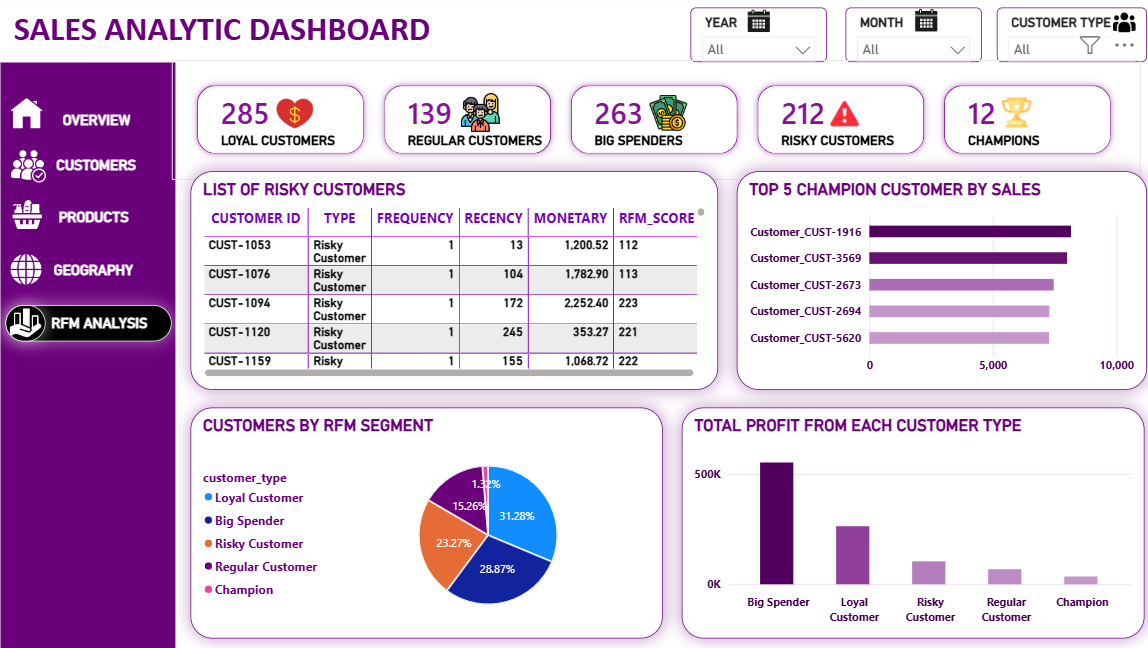

What the dashboard file says about the page in this screenshot:
{"tool":"powerbi","page":{"name":"RFM ANALYSIS","canvas":[1280,720],"ordinal":4},"visuals":[{"type":"textbox","box":[23.3,9.6,516,60.4],"z":0},{"type":"slicer","fields":{"Values":["amazon_db rfm_customers_segmentation.customer_type"]},"box":[1107.4,13.7,164.7,60.4],"z":1000},{"type":"slicer","fields":{"Values":["amazon_db merged_table.order_date.Variation.Date Hierarchy.Year"]},"box":[771.2,13.7,149.6,60.4],"z":2000},{"type":"slicer","fields":{"Values":["amazon_db merged_table.order_date.Variation.Date Hierarchy.Month"]},"box":[941.3,13.7,149.6,60.4],"z":3000},{"type":"image","box":[832.9,13.7,26.1,30.2],"z":4000},{"type":"image","box":[1016.8,8.2,26.1,39.8],"z":5000},{"type":"shape","box":[13.7,74.1,192.1,646.3],"z":6000},{"type":"actionButton","box":[60.4,116.6,100.2,39.8],"z":7000},{"type":"actionButton","box":[31.6,166,174.3,39.8],"z":8000},{"type":"actionButton","box":[65.9,223.7,100.2,39.8],"z":9000},{"type":"actionButton","box":[65.9,281.3,100.2,39.8],"z":10000},{"type":"image","box":[16.5,167.4,56.3,38.4],"z":11000},{"type":"image","box":[23.3,277.2,37,48],"z":12000},{"type":"image","box":[15.1,223.7,56.3,35.7],"z":13000},{"type":"image","box":[22,112.5,41.2,35.7],"z":14000},{"type":"actionButton","box":[19.2,340.3,182.5,39.8],"z":15000},{"type":"image","box":[19.2,340.3,43.9,39.8],"z":16000},{"type":"cardVisual","fields":{"Data":["amazon_db rfm_customers_segmentation.loyal_customers","amazon_db rfm_customers_segmentation.big spender","amazon_db rfm_customers_segmentation.big spendor","amazon_db rfm_customers_segmentation.risky customer","amazon_db rfm_customers_segmentation.champion"]},"box":[201.7,71.4,1063.5,131.7],"z":17000},{"type":"pieChart","title":"CUSTOMERS BY RFM SEGMENT","fields":{"Y":["Count(amazon_db rfm_customers_segmentation.customer_id)"],"Category":["amazon_db rfm_customers_segmentation.customer_type"]},"box":[222.3,452.8,518.7,253.9],"z":18000},{"type":"barChart","title":"TOP 5 CHAMPION CUSTOMER BY SALES","fields":{"Y":["Sum(amazon_db merged_table.sales)"],"Category":["amazon_db merged_table.name","amazon_db rfm_customers_segmentation.customer_type"]},"box":[822,193.5,450.1,240.1],"z":19000},{"type":"columnChart","title":"TOTAL PROFIT FROM EACH CUSTOMER TYPE","fields":{"Category":["amazon_db rfm_customers_segmentation.customer_type"],"Y":["Sum(amazon_db merged_table.profit)"]},"box":[761.6,452.8,507.7,253.9],"z":20000},{"type":"tableEx","title":"LIST OF RISKY CUSTOMERS","fields":{"Values":["amazon_db rfm_customers_segmentation.customer_id","amazon_db rfm_customers_segmentation.customer_type","amazon_db rfm_customers_segmentation.frequency","amazon_db rfm_customers_segmentation.recency","amazon_db rfm_customers_segmentation.monetary","amazon_db rfm_customers_segmentation.rfm_score"]},"box":[222.3,193.5,579.1,240.1],"z":21000},{"type":"image","box":[1099.1,112.5,60.4,32.9],"z":22000},{"type":"image","box":[911.2,113.9,59,32.9],"z":23000},{"type":"image","box":[703.9,108.4,85.1,42.5],"z":24000},{"type":"image","box":[510.5,107,60.4,43.9],"z":25000},{"type":"image","box":[293.7,109.8,86.4,41.2],"z":26000},{"type":"image","box":[1235,13.7,24.7,32.9],"z":27000}]}

Visuals, with their boxes on the page's 1280x720 design canvas (x1, y1, x2, y2). These are canvas units, not pixel positions in the 1148x648 screenshot, which may show the page scaled, cropped or inside an application window:
textbox: [23, 10, 539, 70]
slicer - amazon_db rfm_customers_segmentation.customer_type: [1107, 14, 1272, 74]
slicer - amazon_db merged_table.order_date.Variation.Date Hierarchy.Year: [771, 14, 921, 74]
slicer - amazon_db merged_table.order_date.Variation.Date Hierarchy.Month: [941, 14, 1091, 74]
image: [833, 14, 859, 44]
image: [1017, 8, 1043, 48]
shape: [14, 74, 206, 720]
actionButton: [60, 117, 161, 156]
actionButton: [32, 166, 206, 206]
actionButton: [66, 224, 166, 264]
actionButton: [66, 281, 166, 321]
image: [16, 167, 73, 206]
image: [23, 277, 60, 325]
image: [15, 224, 71, 259]
image: [22, 112, 63, 148]
actionButton: [19, 340, 202, 380]
image: [19, 340, 63, 380]
cardVisual - amazon_db rfm_customers_segmentation.loyal_customers x amazon_db rfm_customers_segmentation.big spender: [202, 71, 1265, 203]
"CUSTOMERS BY RFM SEGMENT" pieChart: [222, 453, 741, 707]
"TOP 5 CHAMPION CUSTOMER BY SALES" barChart: [822, 194, 1272, 434]
"TOTAL PROFIT FROM EACH CUSTOMER TYPE" columnChart: [762, 453, 1269, 707]
"LIST OF RISKY CUSTOMERS" tableEx: [222, 194, 801, 434]
image: [1099, 112, 1160, 145]
image: [911, 114, 970, 147]
image: [704, 108, 789, 151]
image: [510, 107, 571, 151]
image: [294, 110, 380, 151]
image: [1235, 14, 1260, 47]
